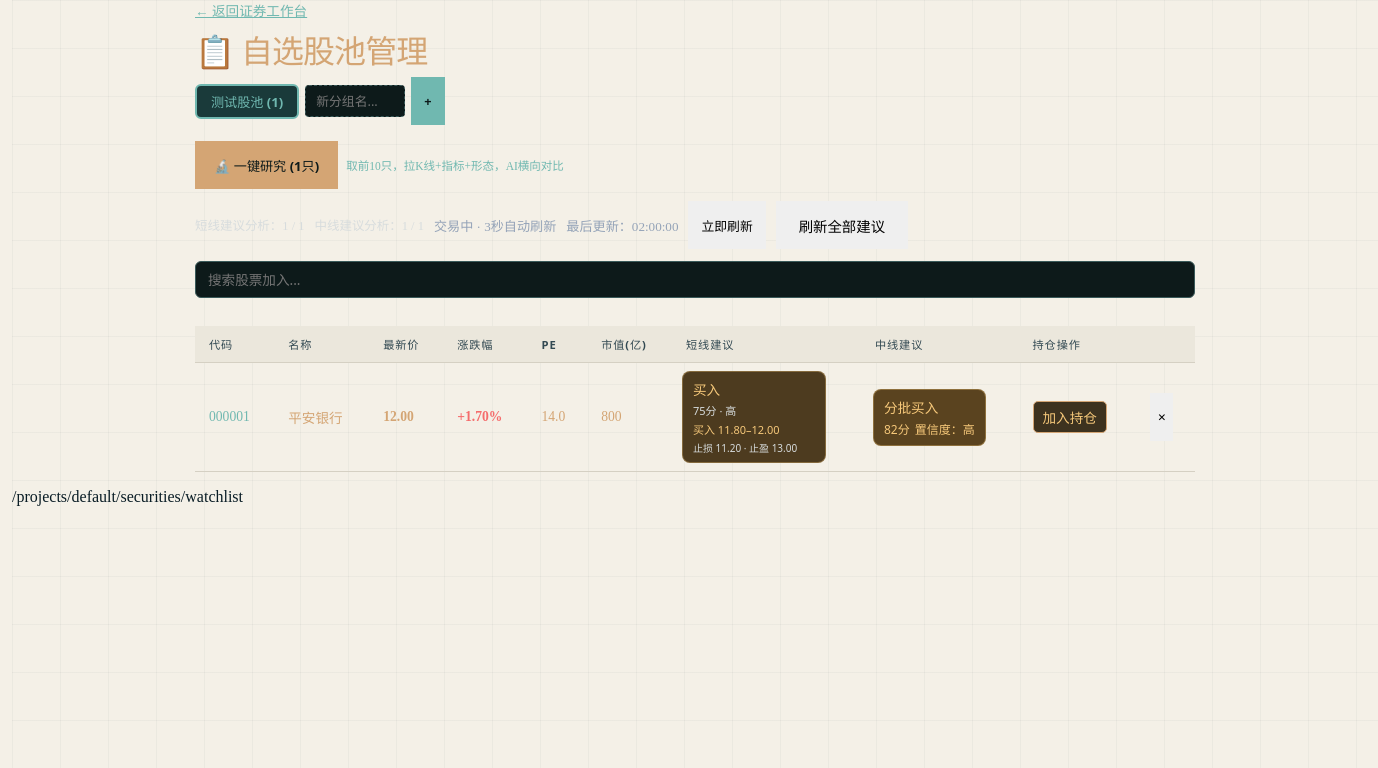
WatchlistPage buy advice integration › clicking advice expands locally without navigating
Click the button with aria-label "查看平安银行中线建议".
click(929, 417)  # box [873,389,986,446]
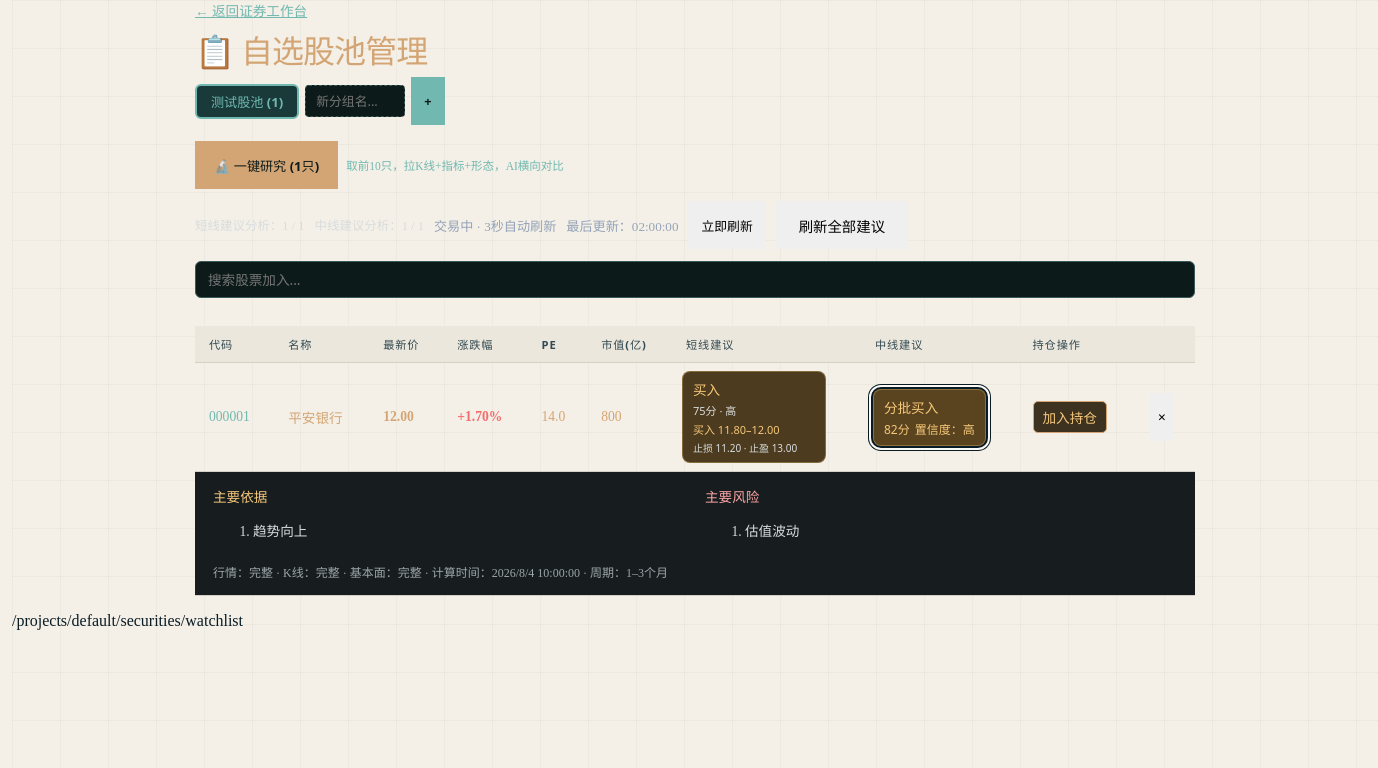
Expected: the text with test id "location" reads "/projects/default/securities/watchlist", [12,612,243,630]
Expected: the text "主要依据" is shown, [213,490,267,505]
